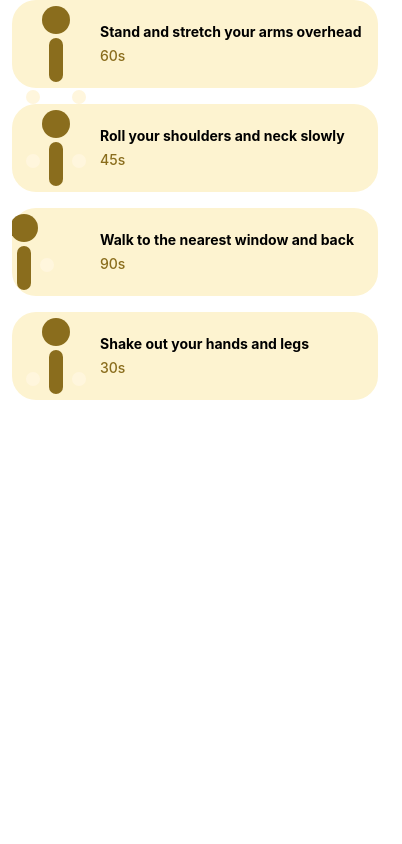
Test case: MoveTab › starts a countdown and shows the remaining seconds
Click the text "Shake out your hands and legs".
click(205, 344)  # box x1=100 y1=335 x2=309 y2=352
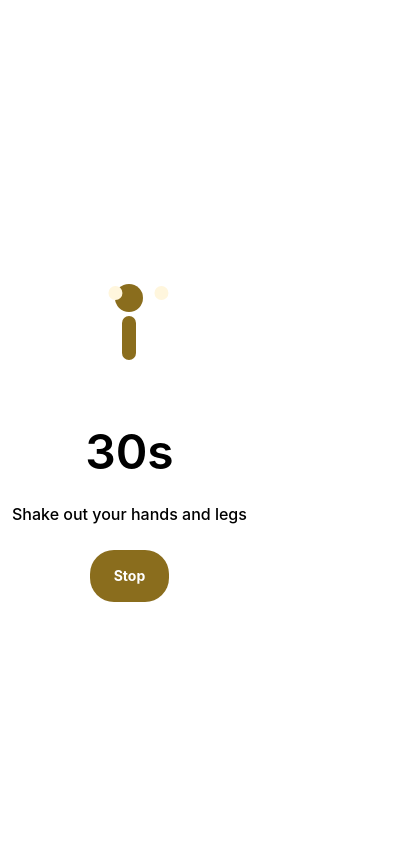
Expected: the text "30s" is shown, x1=85 y1=426 x2=174 y2=478
Result: the text "Stop" is shown at x1=114 y1=566 x2=145 y2=586
